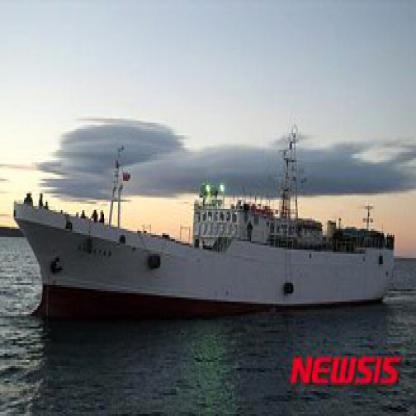fish-b: (2, 119, 406, 328)
